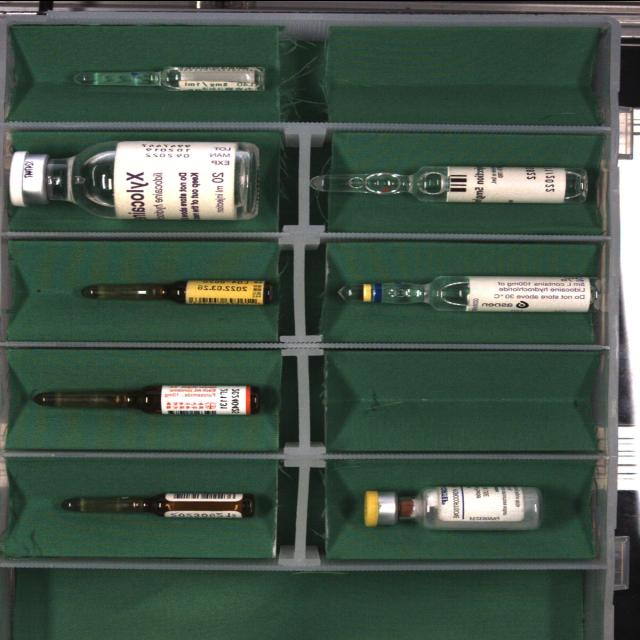Vials: (10, 140, 259, 219), (364, 485, 541, 528)
